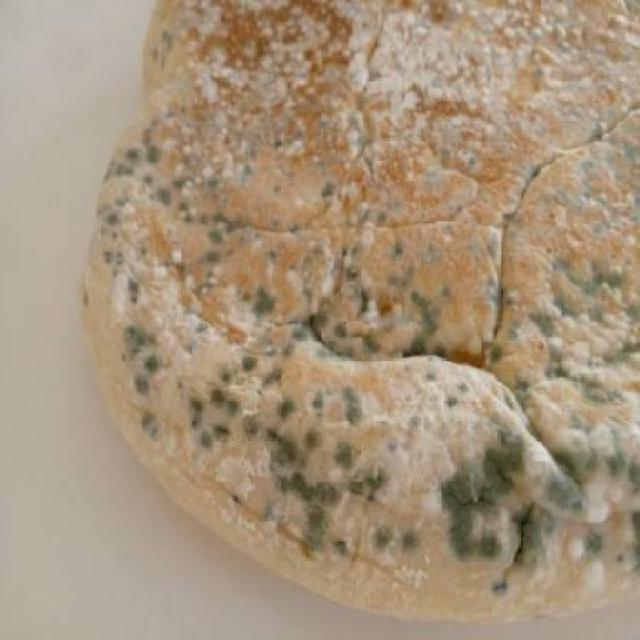mold_bread: (262, 429, 396, 565), (425, 429, 546, 574), (518, 304, 633, 407), (187, 349, 261, 448), (98, 117, 176, 208), (556, 439, 640, 512), (289, 305, 383, 367), (115, 321, 164, 399), (403, 285, 440, 365), (302, 388, 368, 425), (238, 277, 281, 322), (133, 406, 168, 445), (97, 237, 132, 274), (578, 525, 608, 559), (121, 276, 148, 308), (272, 395, 300, 418)
